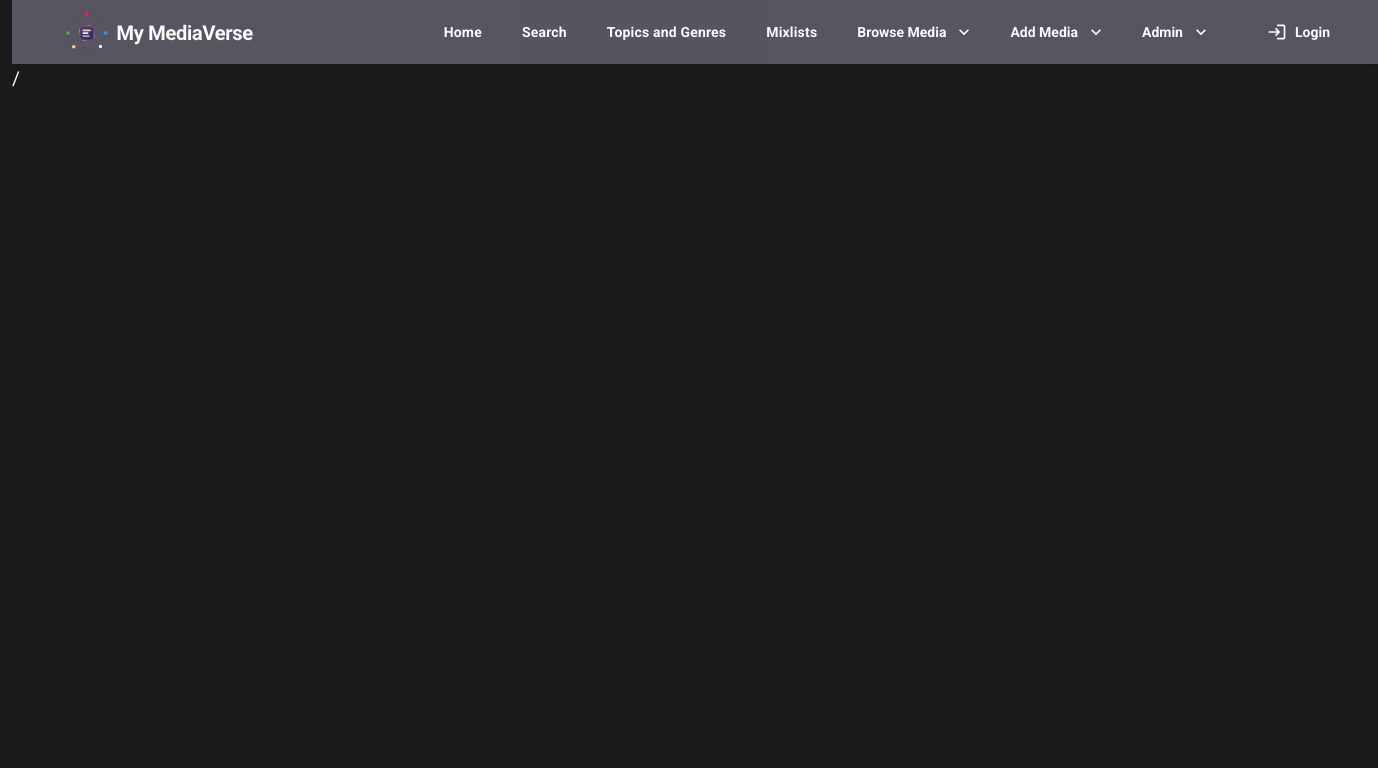
Test: ResponsiveNavigation › desktop › opens a dropdown menu and routes from a menu item
What coordinates should you click on to do the following:
click the button "Browse Media"
I would click on:
 (914, 32)
Its box is x1=841 y1=8 x2=986 y2=56.
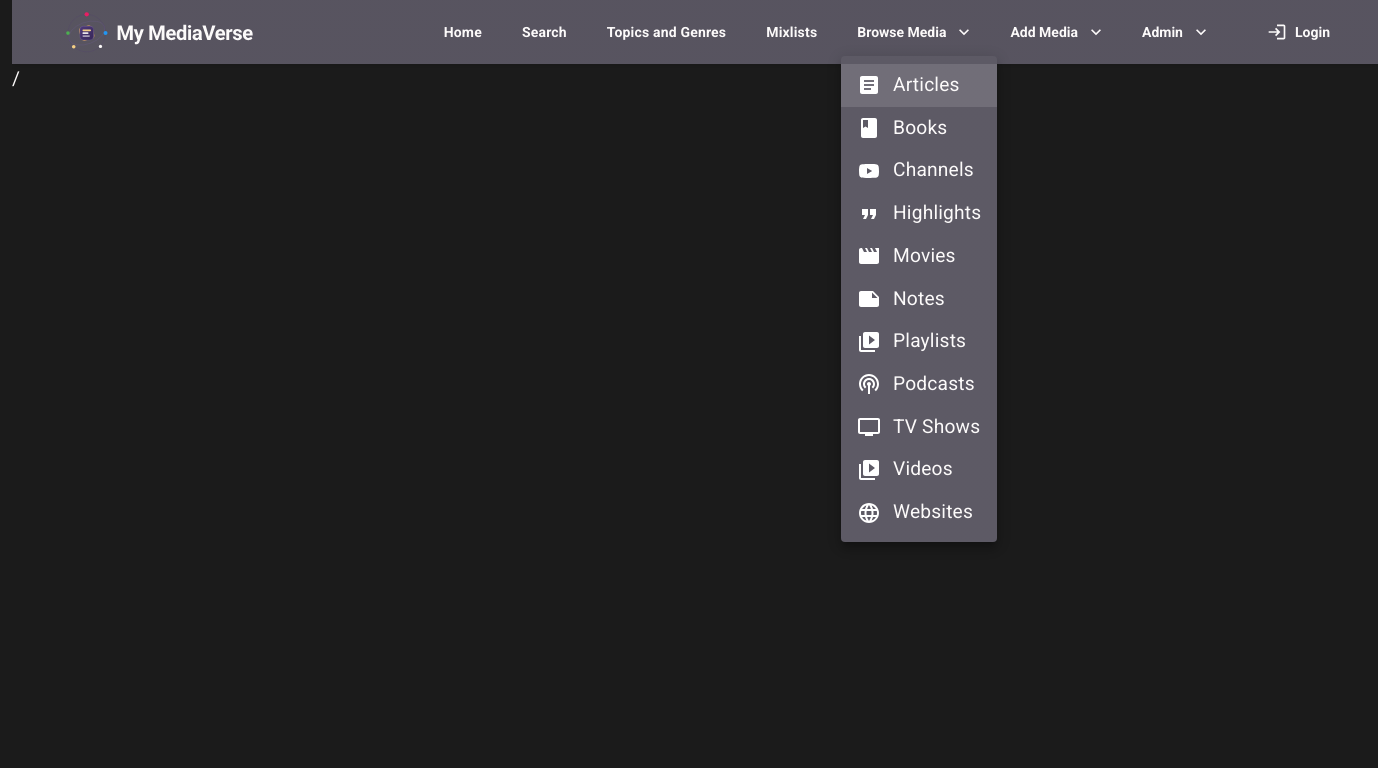
What coordinates should you click on to do the following:
click the menu item "Books"
I would click on:
 (902, 128)
Its box is x1=857 y1=116 x2=947 y2=140.
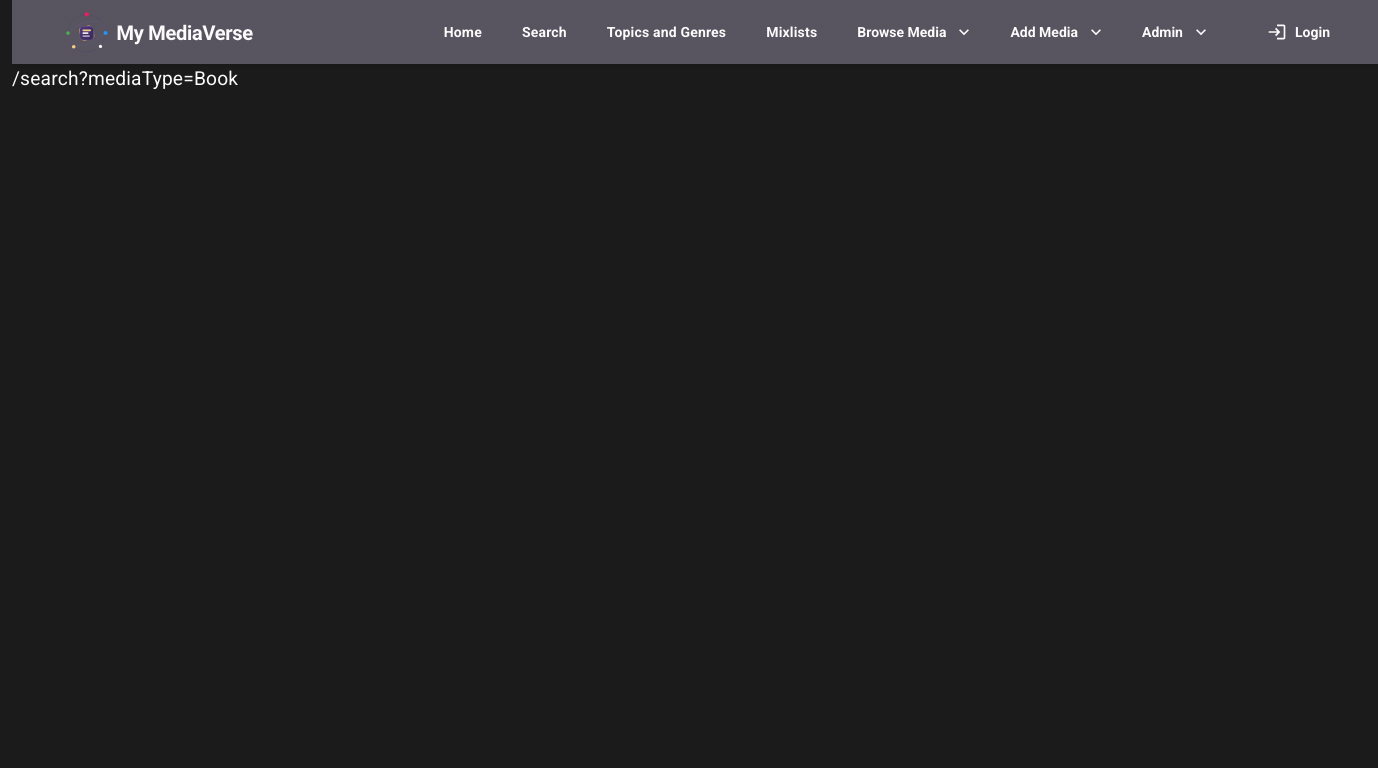
expect the text with test id "location" reads "/search?mediaType=Book": met, box x1=12 y1=67 x2=238 y2=90
